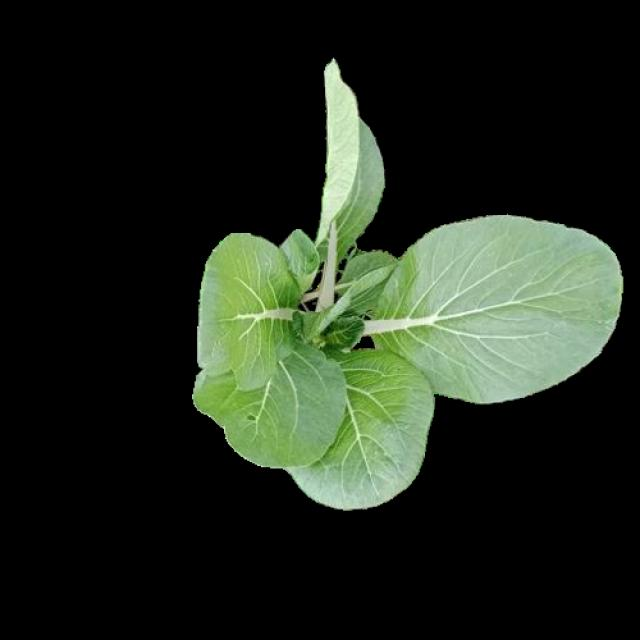mature: (194, 62, 624, 508)
unhealthy: (192, 324, 349, 467)
